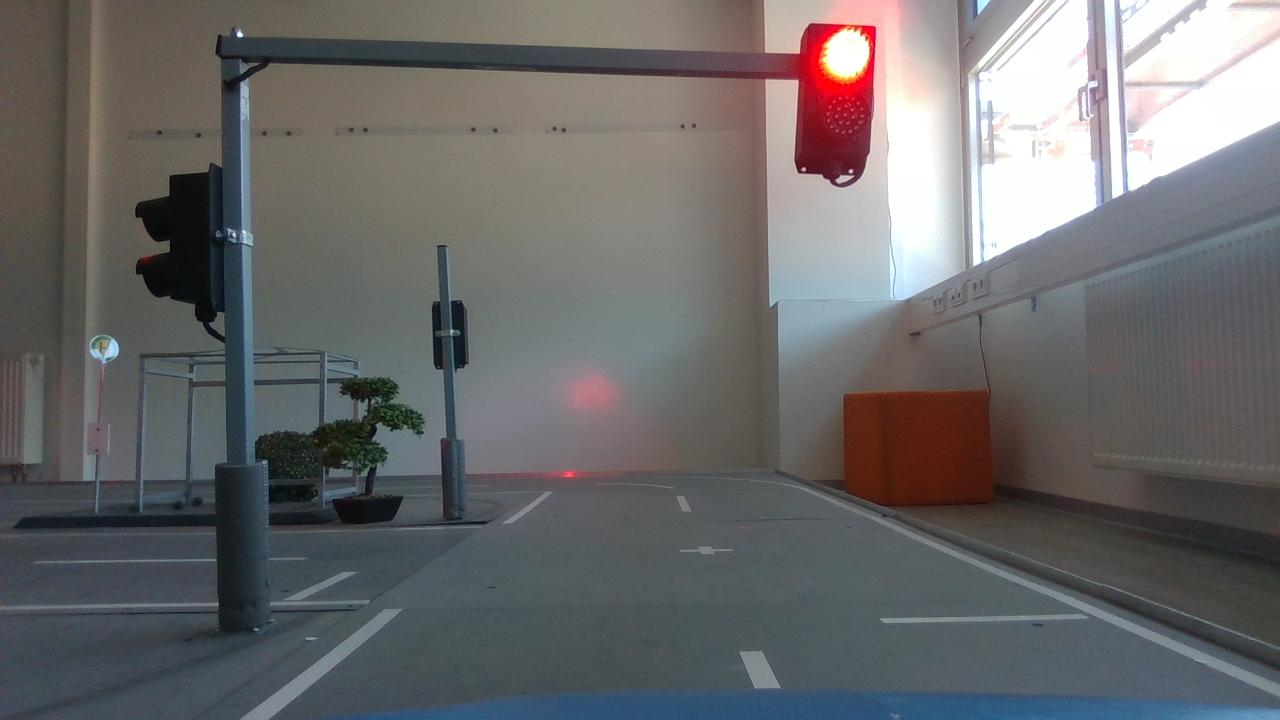traffic_light_red: (784, 5, 885, 204)
